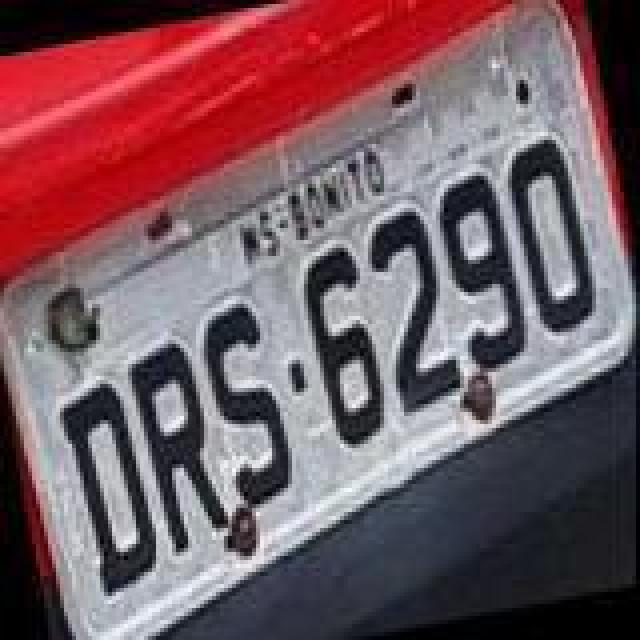2: (360, 206, 468, 418)
6: (294, 238, 390, 450)
9: (430, 168, 534, 376)
D: (52, 376, 168, 600)
O: (498, 134, 602, 338)
R: (126, 334, 238, 562)
S: (192, 296, 300, 512)
